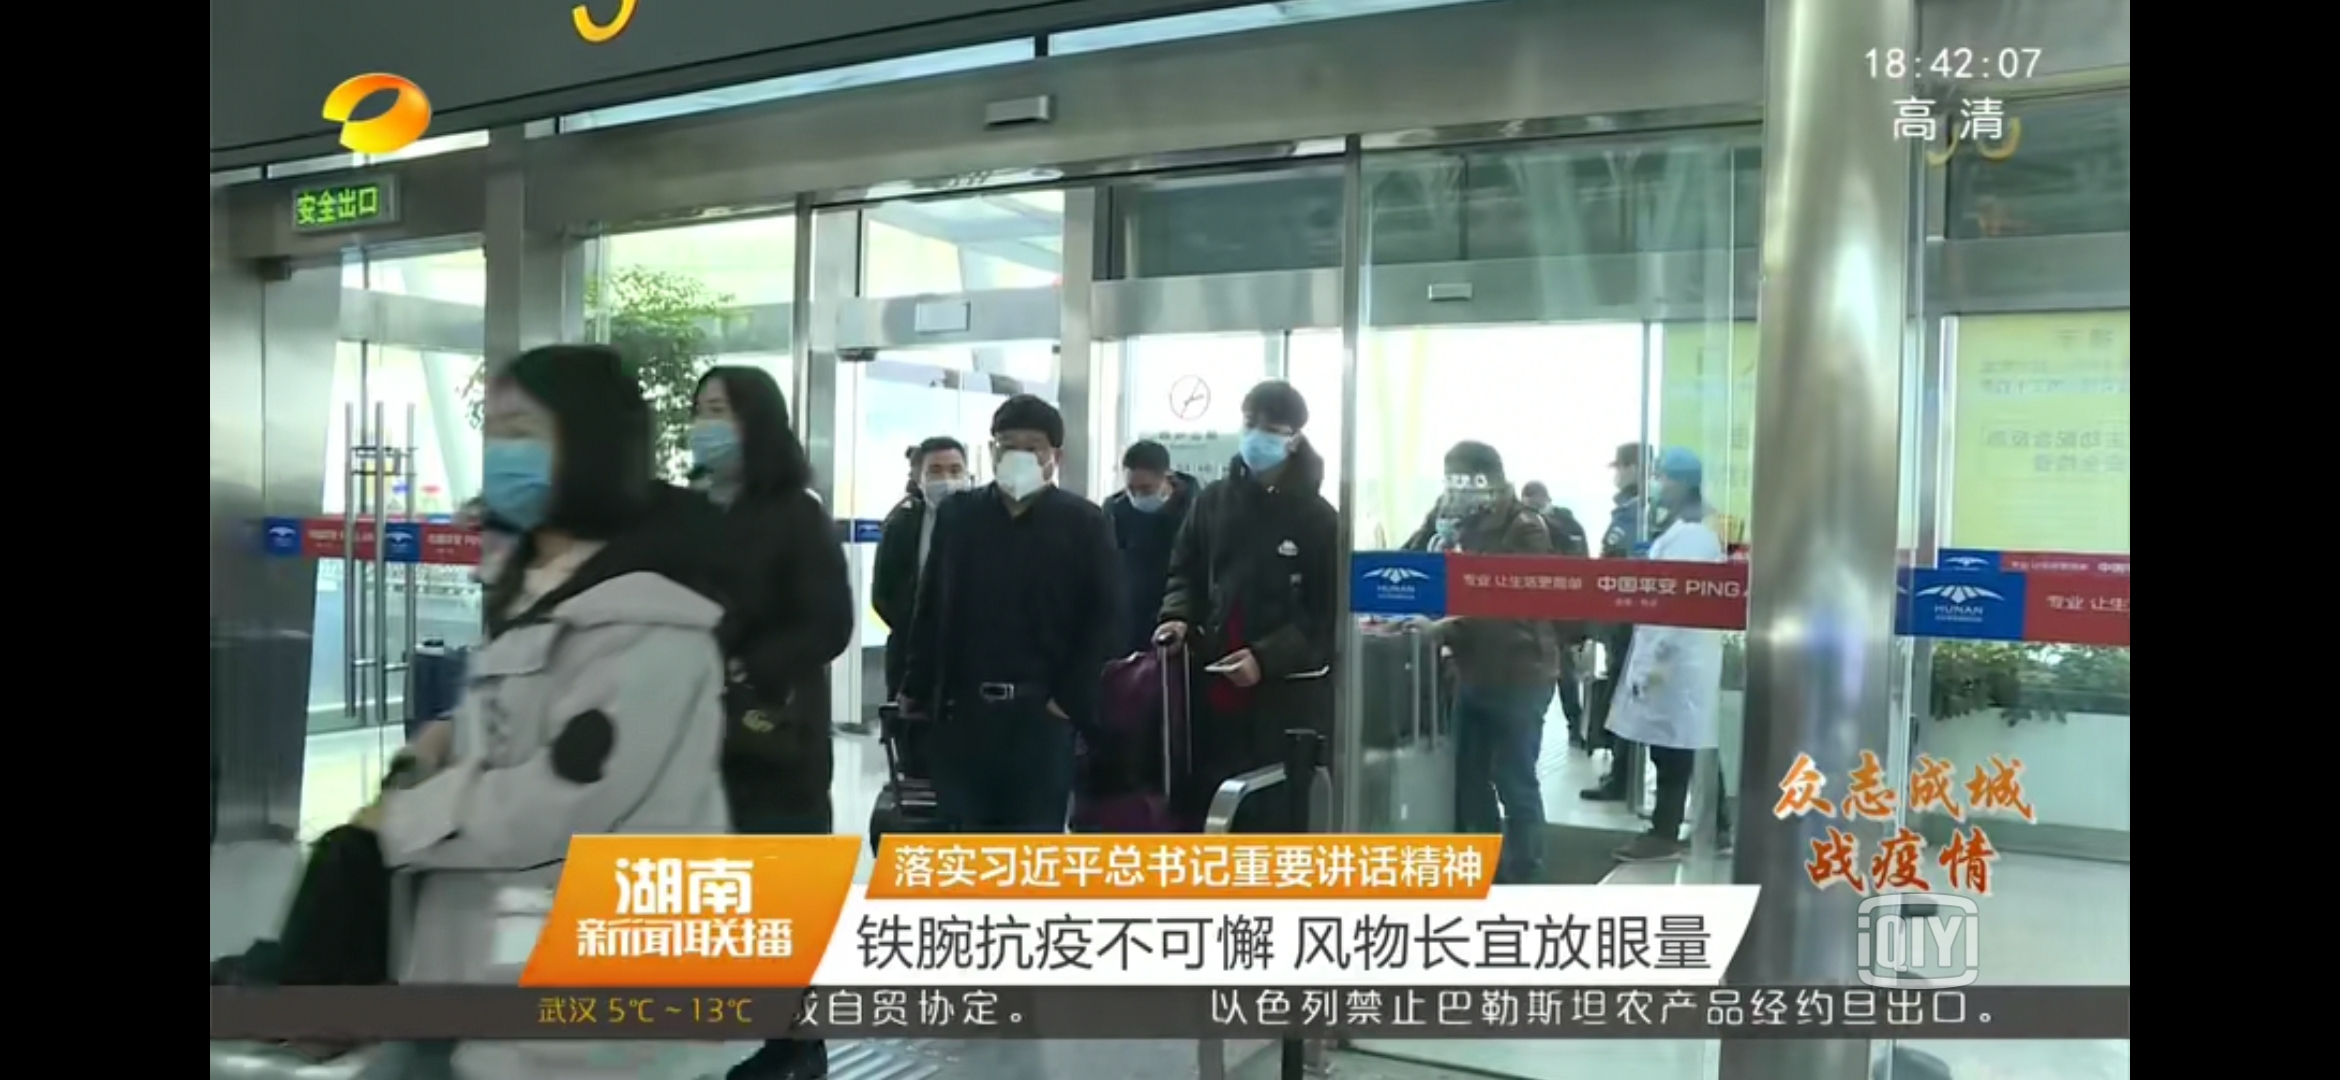correctlyWear: (478, 398, 564, 540), (989, 434, 1063, 500), (688, 392, 742, 477), (1239, 415, 1298, 477), (910, 450, 963, 507), (1122, 467, 1171, 518), (1651, 465, 1677, 507)
